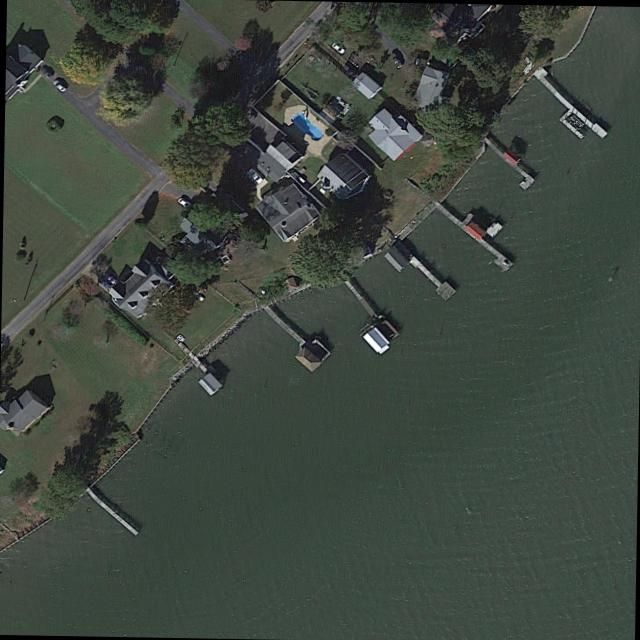small-vehicle: (327, 38, 347, 55), (245, 166, 263, 183), (50, 77, 66, 92), (388, 50, 402, 67), (37, 64, 52, 79), (101, 270, 116, 284), (96, 276, 111, 289), (175, 196, 190, 208)
